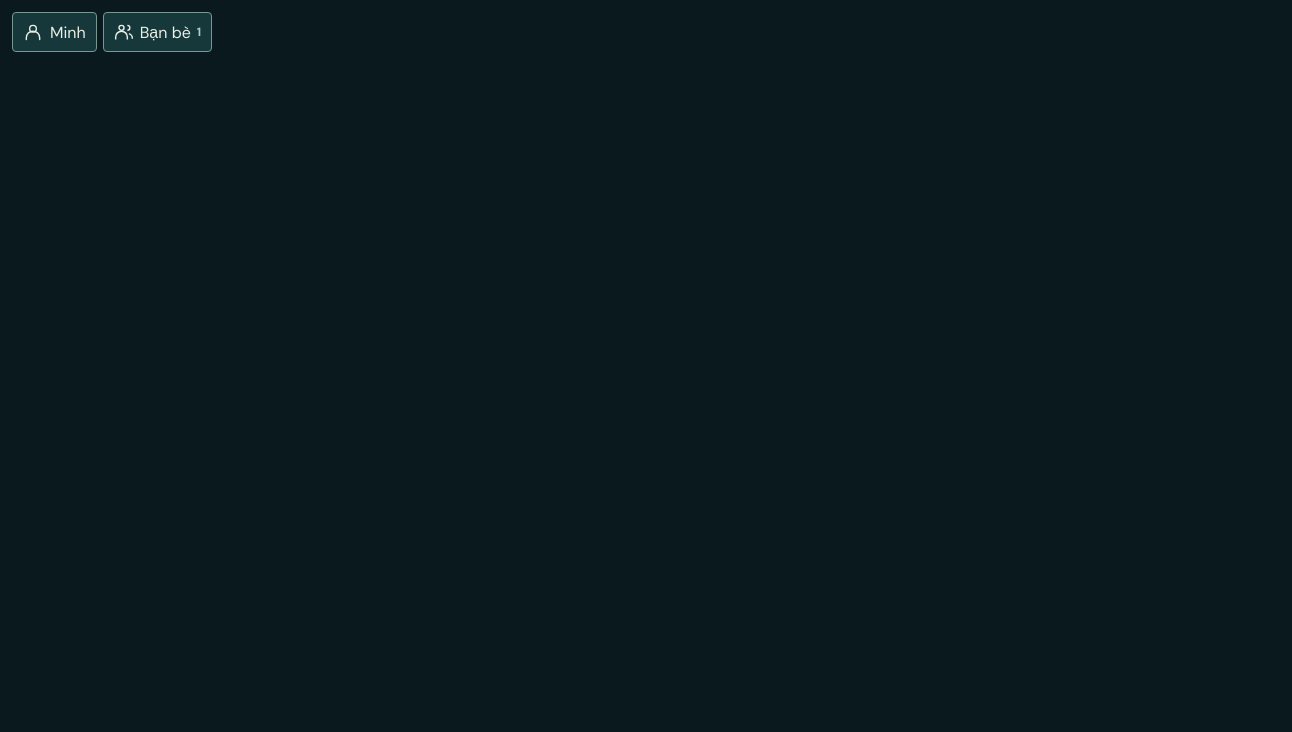
player code and online friends › shows the returned opponent name and preserves date, mode and result
Click the button with aria-label "Tài khoản" at (54, 32), box [12, 12, 97, 52]
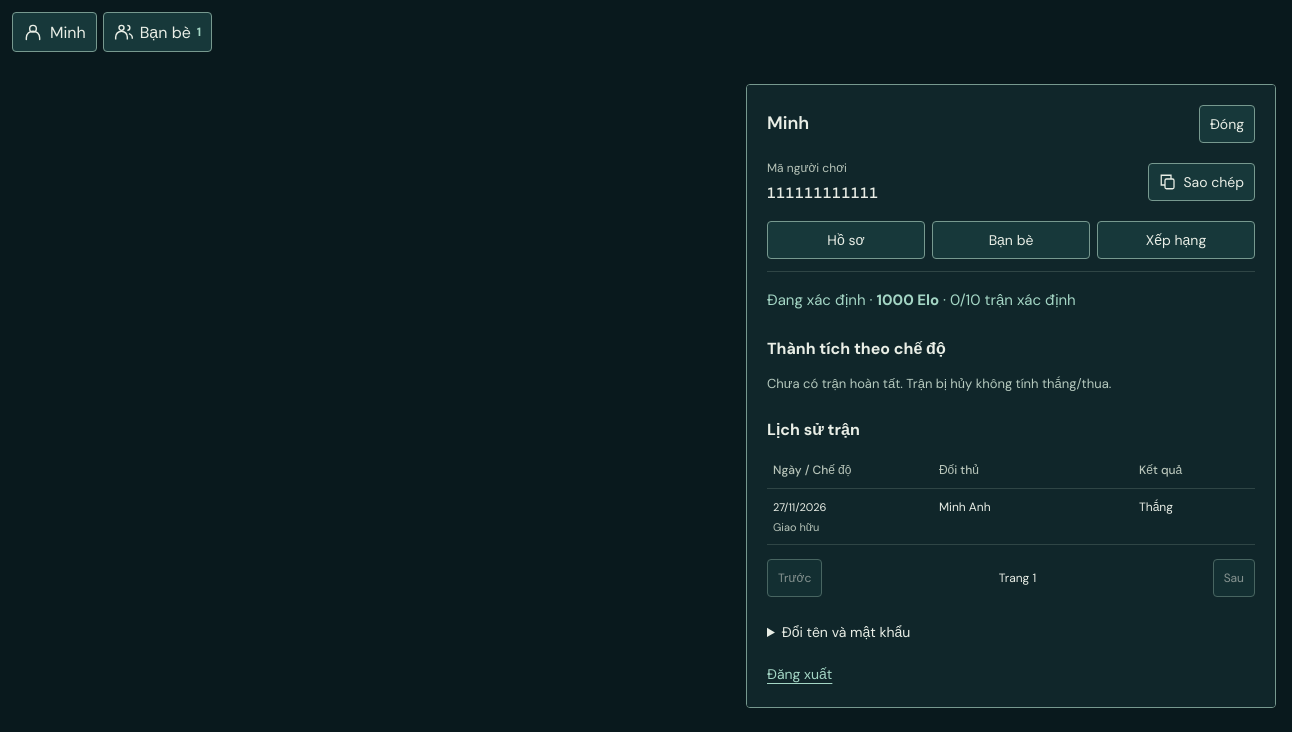
Result: the column heading "Đối thủ" is shown at [933, 452, 1133, 488]
Result: the table shows "Minh Anh" at [939, 499, 991, 515]
Result: the table shows "Giao hữu" at [773, 520, 819, 534]
